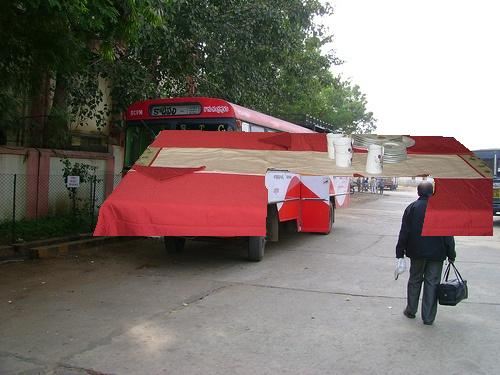tampered: (94, 131, 493, 236)
